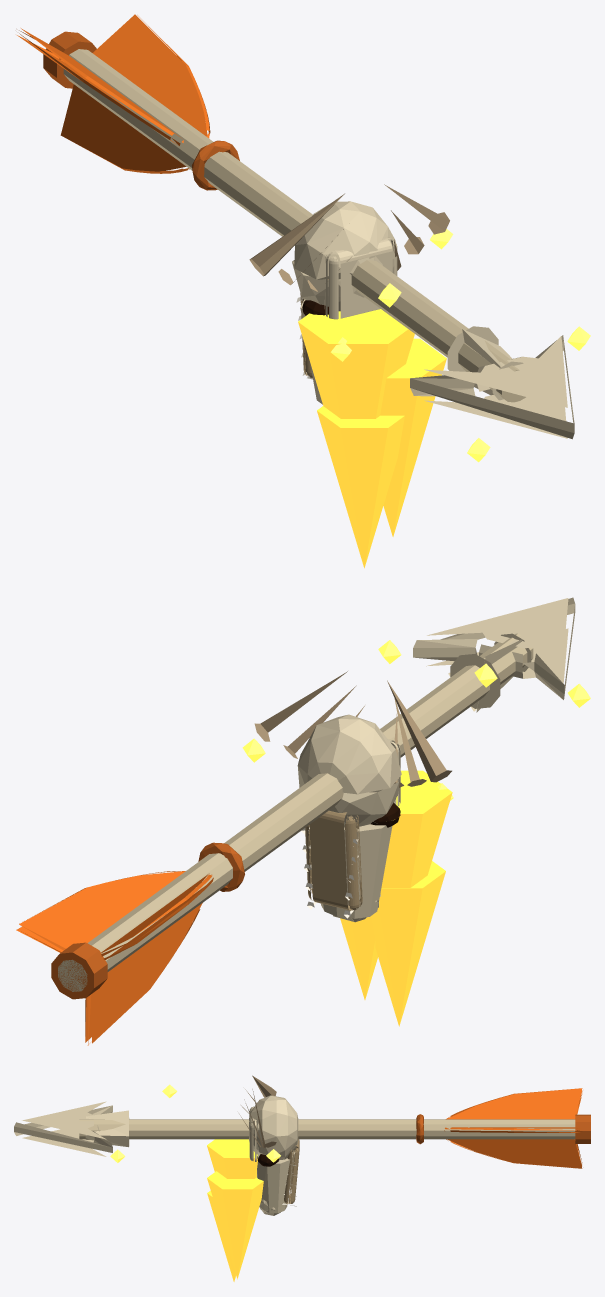
File: dragonbone_arrow.glb
3 renders of one model, top to bottom at view 1: azimuth 30°, elevation 25°; view 2: azimuth 150°, elevation 25°; view 3: azimuth 270°, elevation 25°, orthographic. The views are drawn at different scales.
Parts seen in each view (by area): view 1: dragonbone_arrow; view 2: dragonbone_arrow; view 3: dragonbone_arrow.
Boxes of the visible parts, bbox=[...] form: dragonbone_arrow: bbox=[17, 14, 590, 568]; dragonbone_arrow: bbox=[16, 597, 590, 1045]; dragonbone_arrow: bbox=[14, 1075, 590, 1281].
Bounding box in the file's own units: 0.2962 × 0.502 × 1.27.
